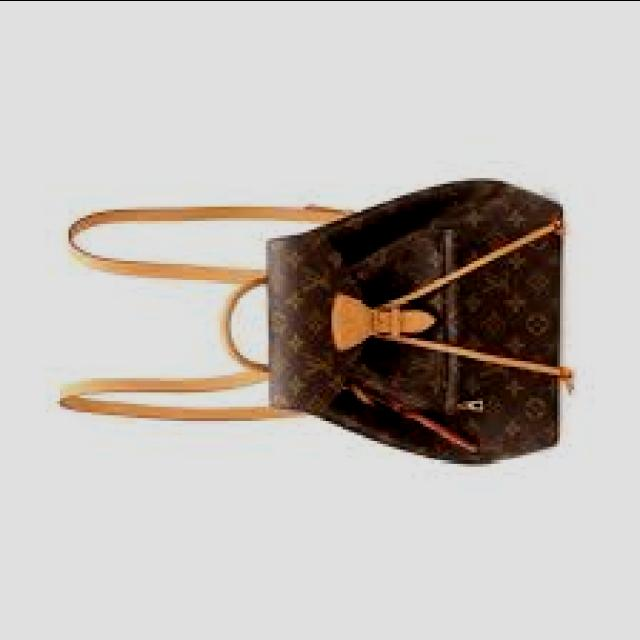backpack: (55, 179, 567, 467)
